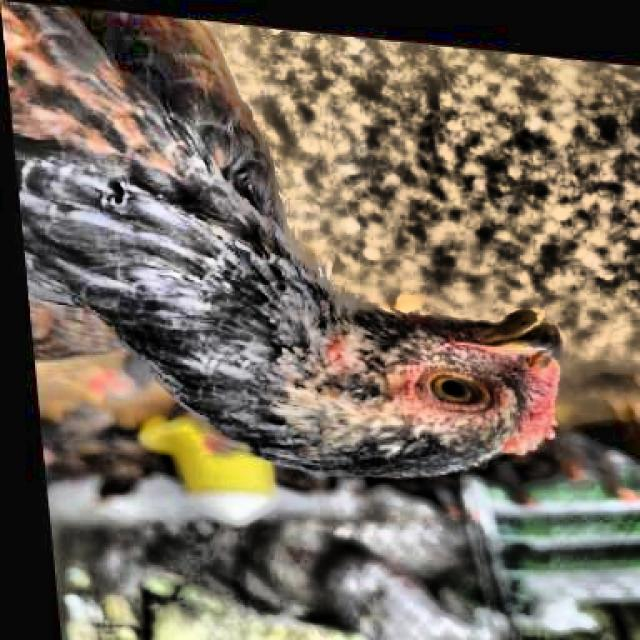Healthy: (395, 352, 518, 425)
